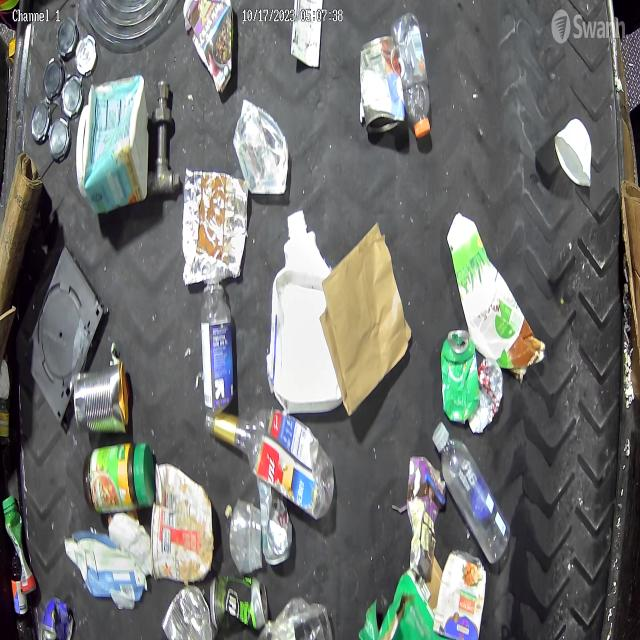can: (359, 37, 405, 135), (70, 361, 130, 436), (442, 326, 479, 426), (209, 574, 269, 632), (161, 585, 214, 640), (469, 358, 504, 433)
plastic_bottle: (212, 407, 338, 518), (437, 422, 510, 565), (390, 9, 432, 142), (201, 280, 238, 412), (228, 500, 264, 576)
